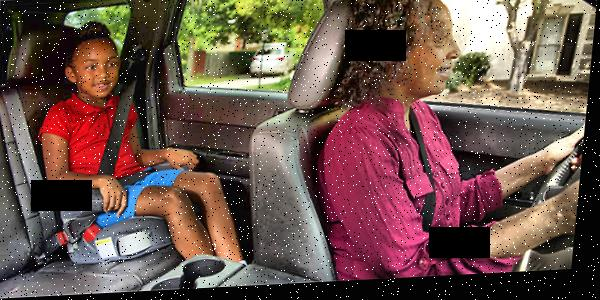seatbelt: (0, 81, 88, 258), (97, 48, 160, 200), (395, 110, 456, 247)
